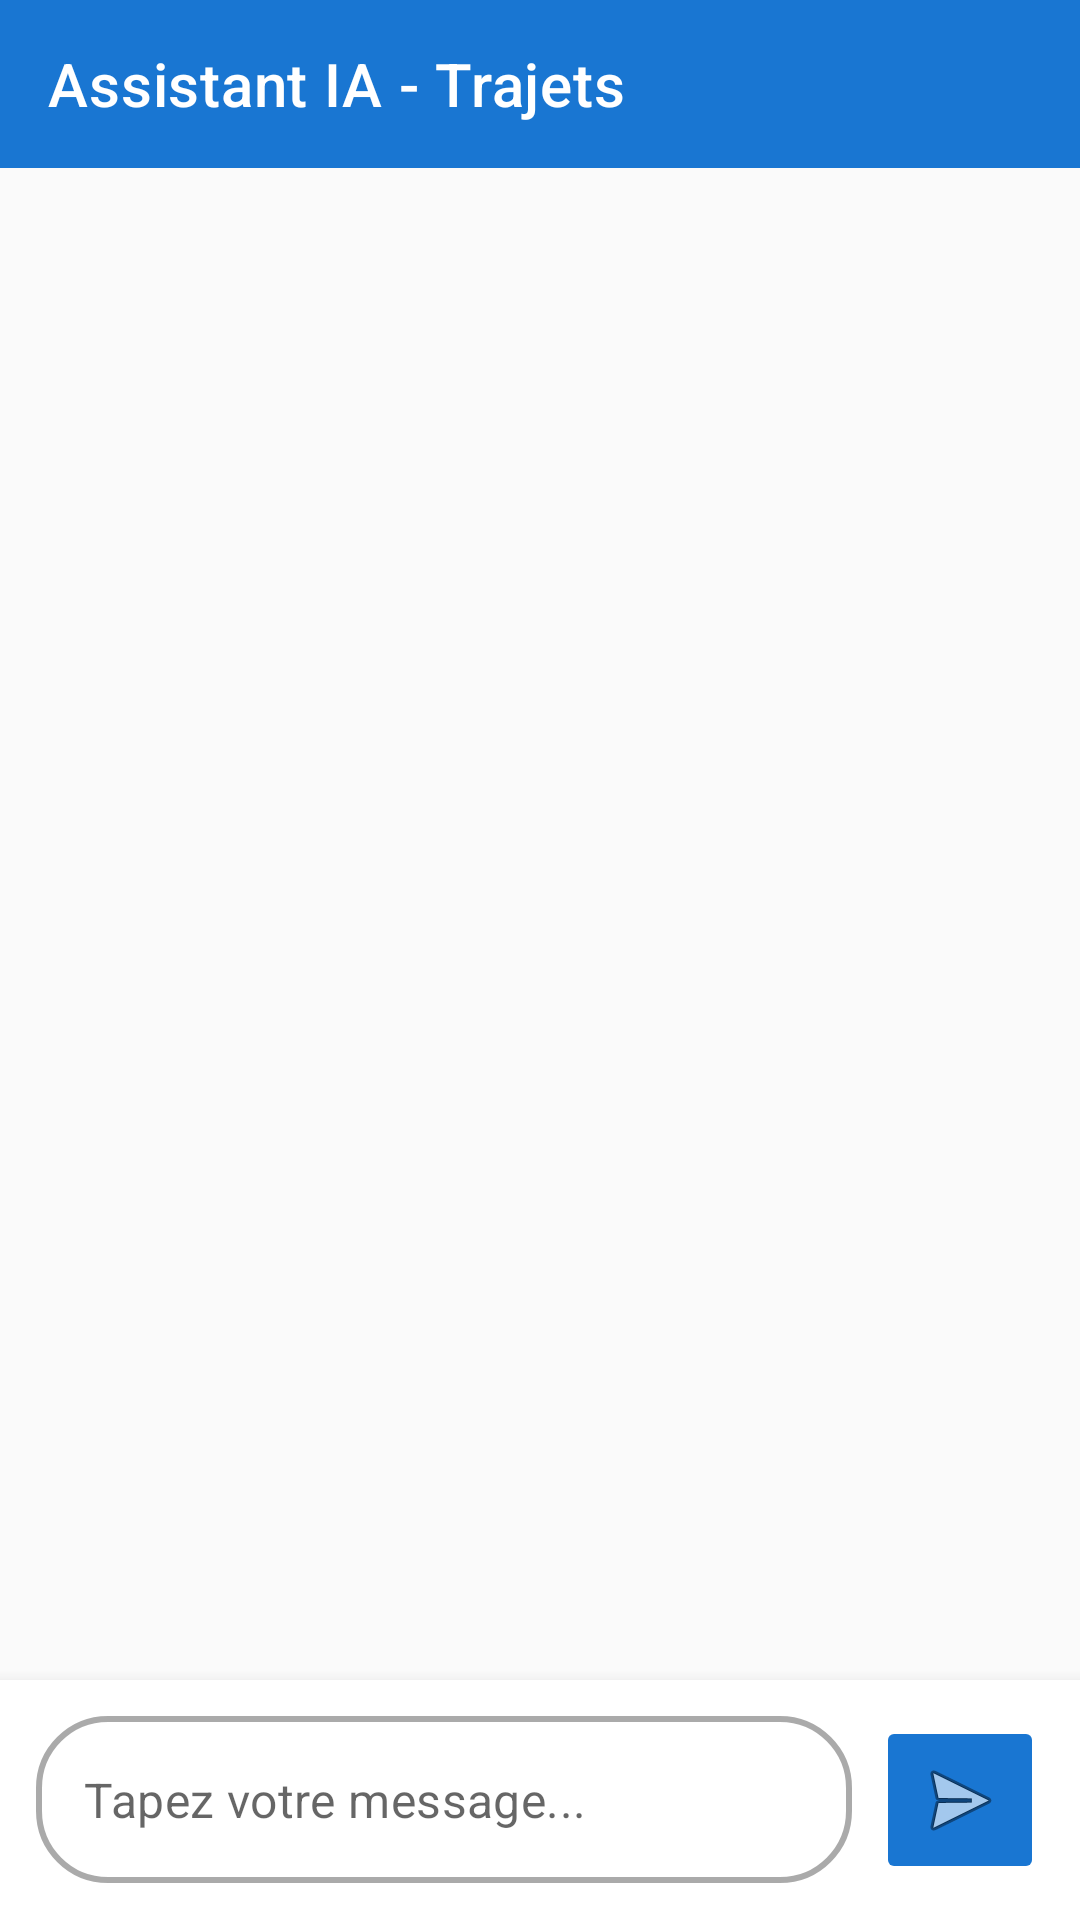

Where to tap for icons on this 1080 × 1920 app screen, as (x,y):
Envoyer: (960,1800)
